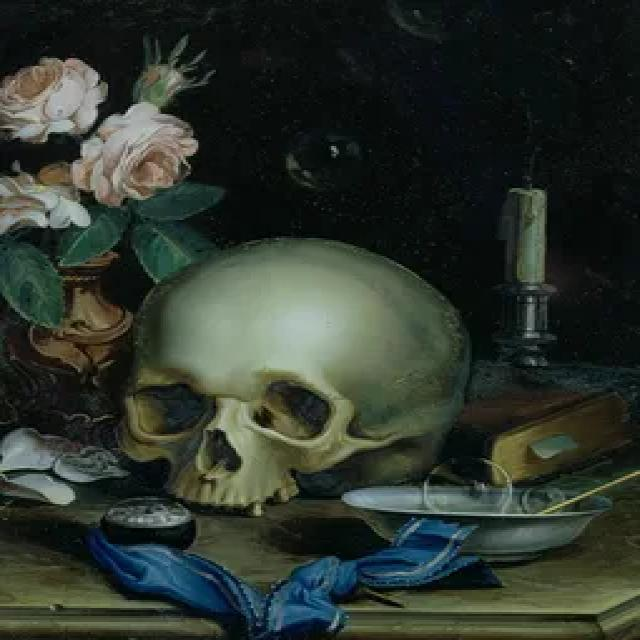skull: (110, 224, 485, 525)
